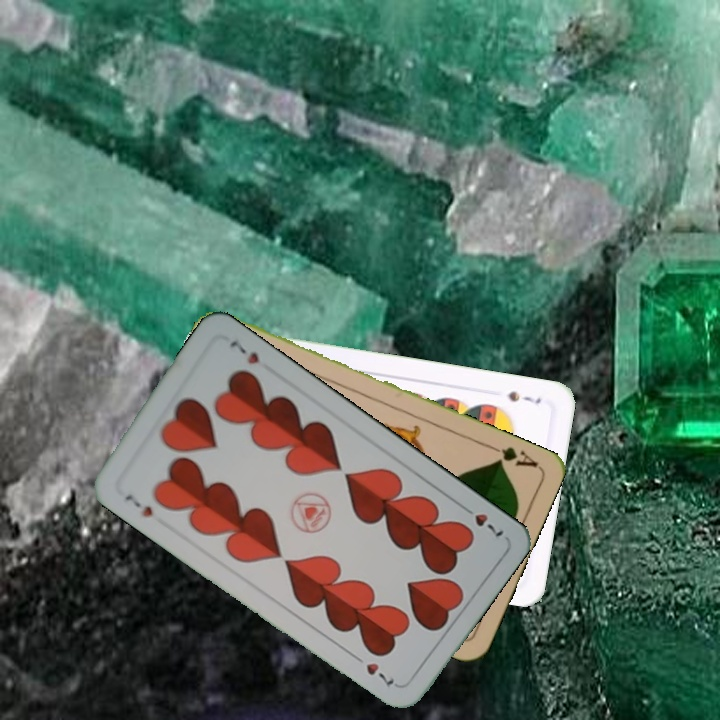GA: (483, 440, 541, 470)
H7: (456, 500, 506, 543), (120, 490, 156, 520)
S7: (504, 387, 544, 407)
